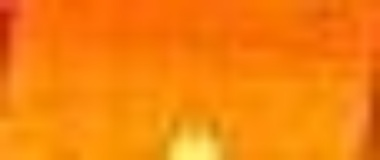Hotspot: (158, 116, 222, 160)
